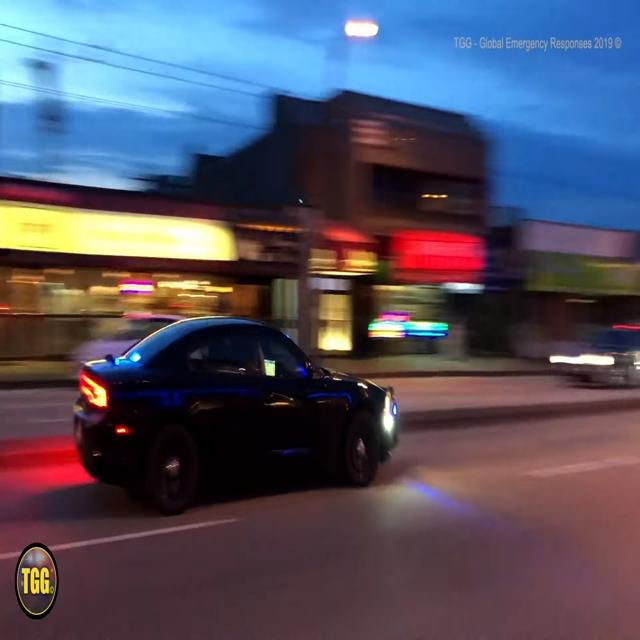emergency-vehicles: (68, 308, 421, 512)
